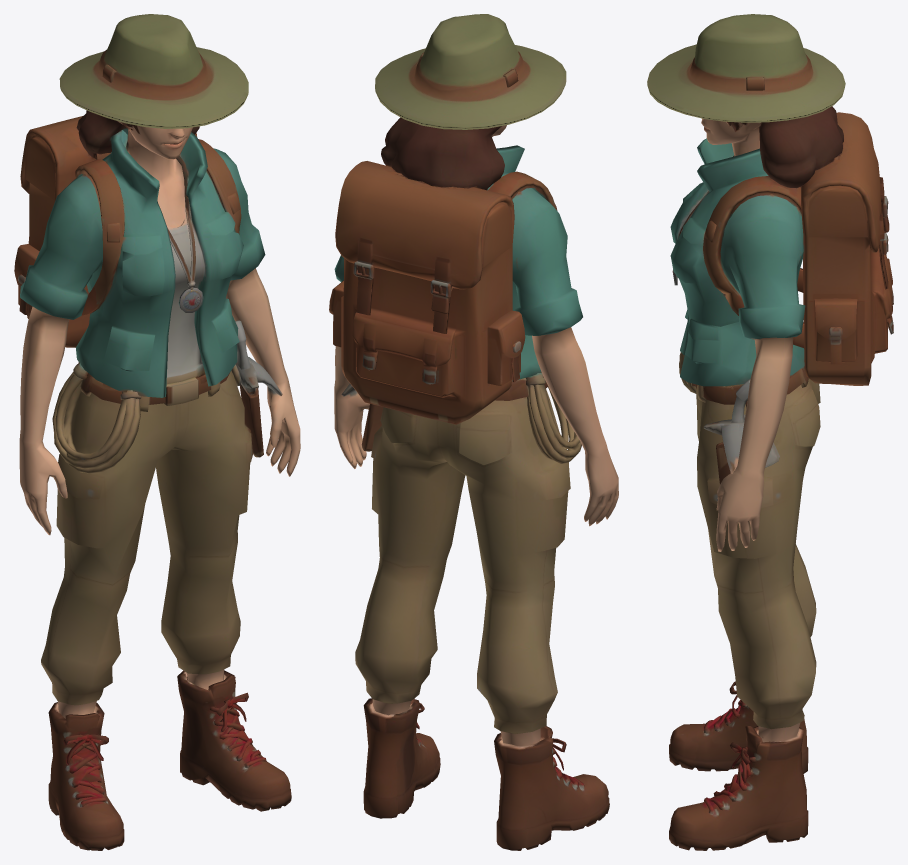
File: texture-parts.glb
3 renders of one model, left to right at view 1: azimuth 30°, elevation 25°; view 2: azimuth 150°, elevation 25°; view 3: azimuth 270°, elevation 25°, orthographic.
Visible parts, largest first — view 1: bc6ff500_497f_439b_908e_661f998e9a32; view 2: bc6ff500_497f_439b_908e_661f998e9a32; view 3: bc6ff500_497f_439b_908e_661f998e9a32.
Boxes of the visible parts, x1,y1,x2,y2 form: bc6ff500_497f_439b_908e_661f998e9a32: (14,14,300,850); bc6ff500_497f_439b_908e_661f998e9a32: (329,14,618,850); bc6ff500_497f_439b_908e_661f998e9a32: (647,14,893,850).
Size of the model in its own units: 0.3667 by 0.9995 by 0.2876.
1 material, 1 textured.
